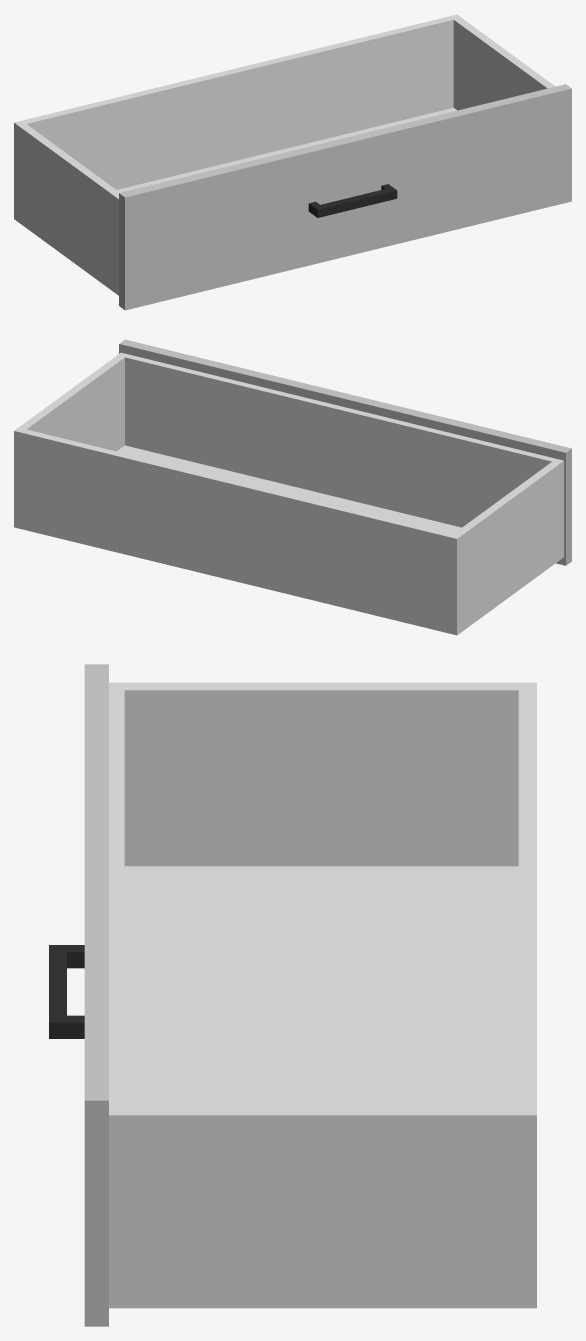
File: Dresser1_C3_02.fbx
The picture shows the model from 3 angles, top to bottom: view 1: azimuth 30°, elevation 25°; view 2: azimuth 150°, elevation 25°; view 3: azimuth 270°, elevation 25°; orthographic projection. The views are drawn at different scales.
Parts seen in each view (by area): view 1: Dresser1_C3_02; view 2: Dresser1_C3_02; view 3: Dresser1_C3_02.
Part boxes in pixels (box(x1,y1,x2,y2)): Dresser1_C3_02: box(14, 14, 571, 310); Dresser1_C3_02: box(14, 339, 571, 635); Dresser1_C3_02: box(49, 664, 536, 1326).
Bounding box in the file's own units: 85.7 × 20.7 × 40.51.
